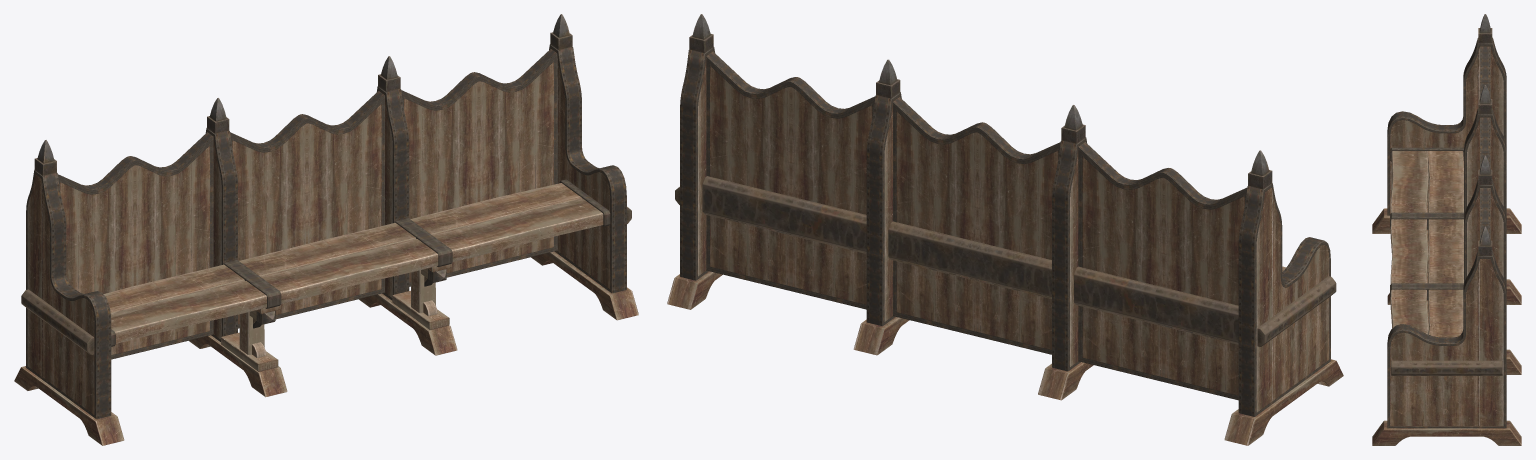
3 views of the same model, side by side, from view 1: azimuth 30°, elevation 25°; view 2: azimuth 150°, elevation 25°; view 3: azimuth 270°, elevation 25° (orthographic). The views are drawn at different scales.
Visible parts, largest first — view 1: SM_DR_MagesPews_A_02_01_LOD0; view 2: SM_DR_MagesPews_A_02_01_LOD0; view 3: SM_DR_MagesPews_A_02_01_LOD0.
Boxes of the visible parts, x1,y1,x2,y2 form: SM_DR_MagesPews_A_02_01_LOD0: (14, 14, 638, 445); SM_DR_MagesPews_A_02_01_LOD0: (667, 14, 1343, 445); SM_DR_MagesPews_A_02_01_LOD0: (1372, 14, 1521, 445).
Bounding box in the file's own units: 3.3 × 1.47 × 0.9262.
Materials: 3 (3 with a texture image).
